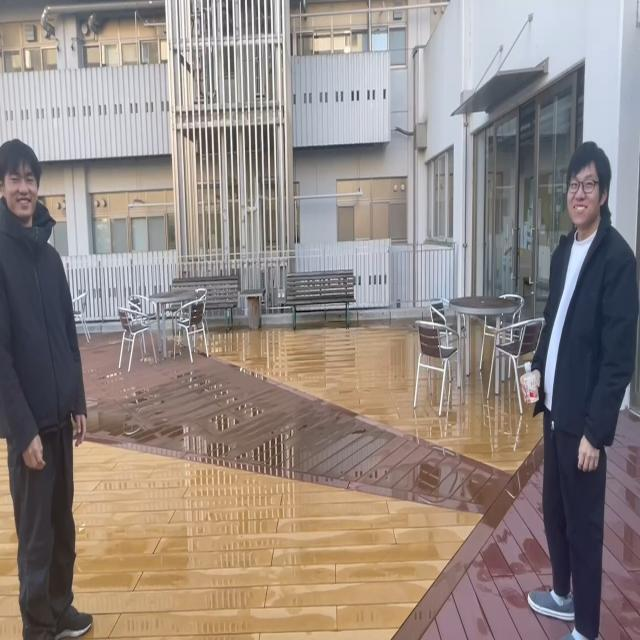bottle: (519, 359, 541, 405)
